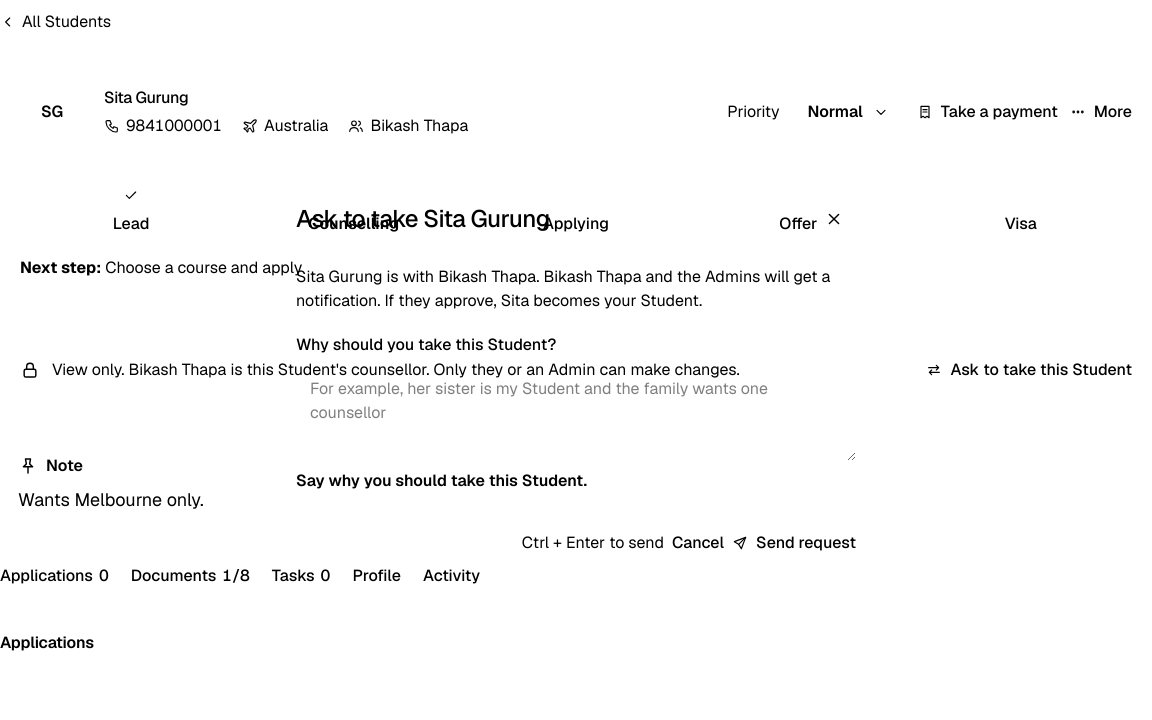
it: Asking to take a Student › says when someone asked first
Click the button "Ask to take this Student" at (1029, 370), box [926,348,1132,392]
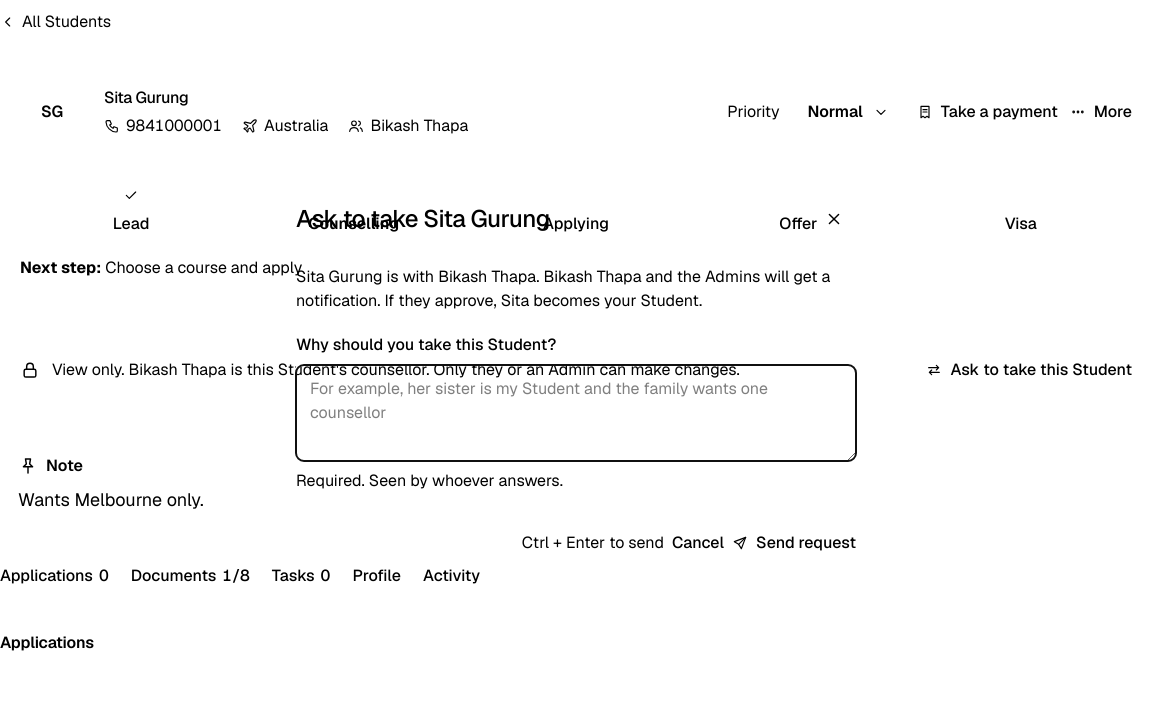
Type "x" into the text box labelled "Why should you take this Student?" at (576, 412), box [296,364,856,460]
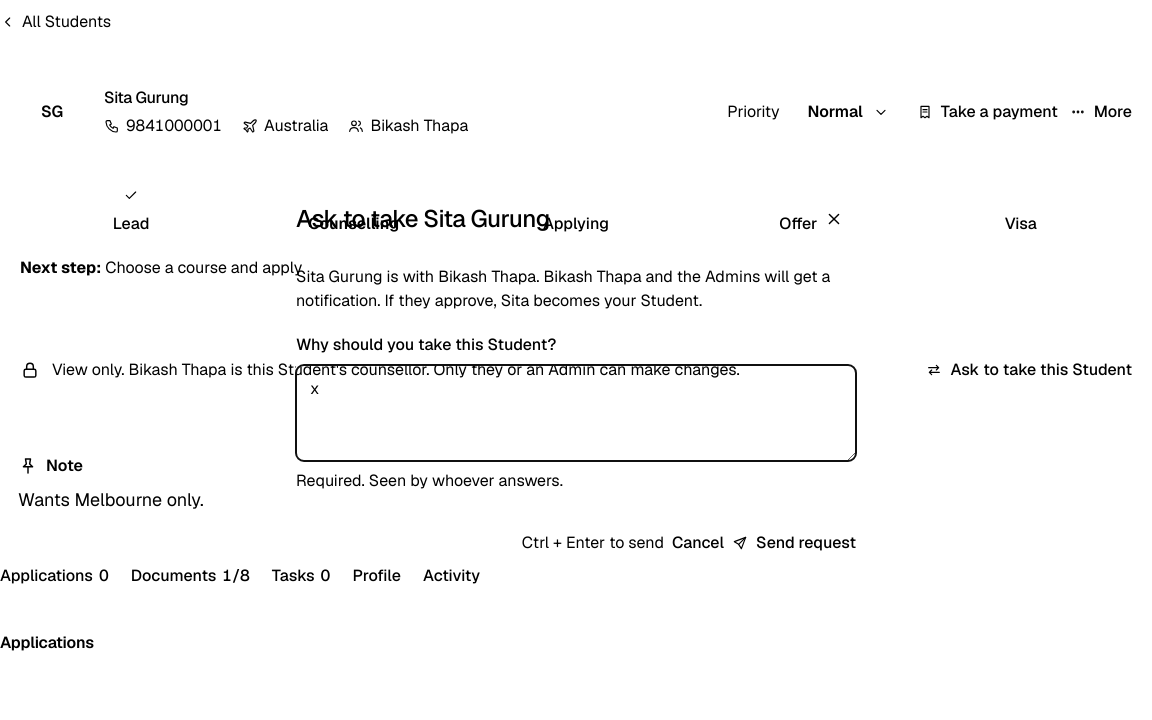
Click the button "Send request" at (794, 542), box [732,520,856,564]
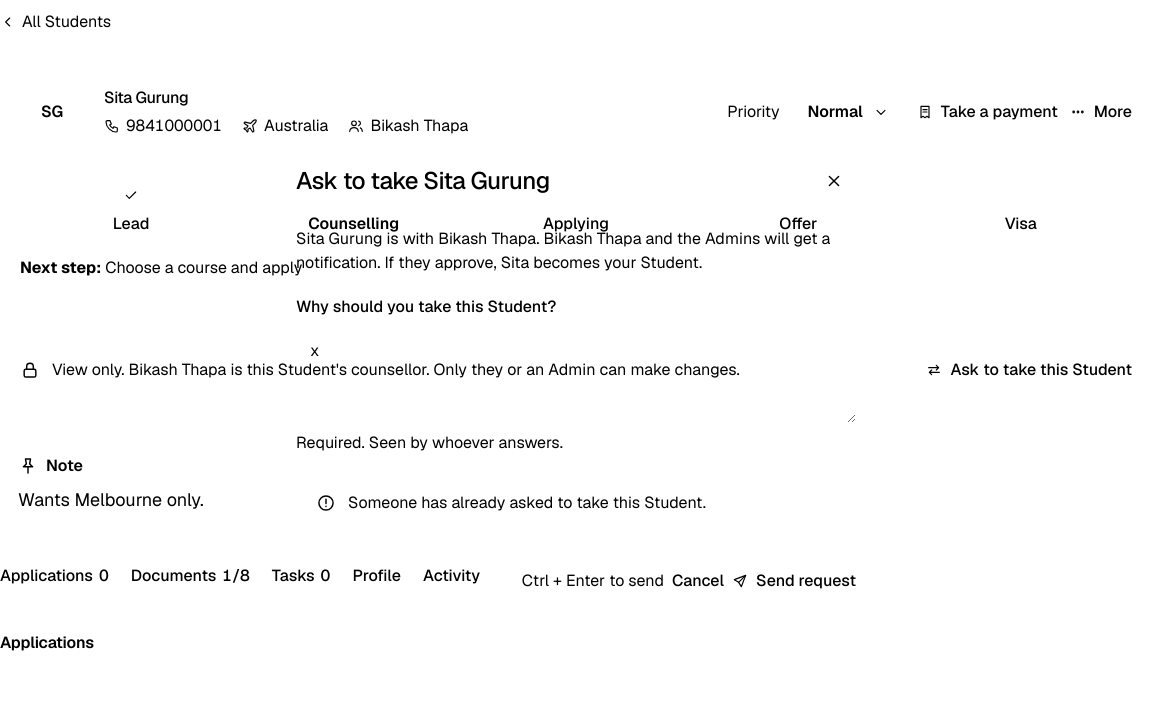
Expected: the message reads "Someone has already asked to take this Student.", [348,492,706,512]
